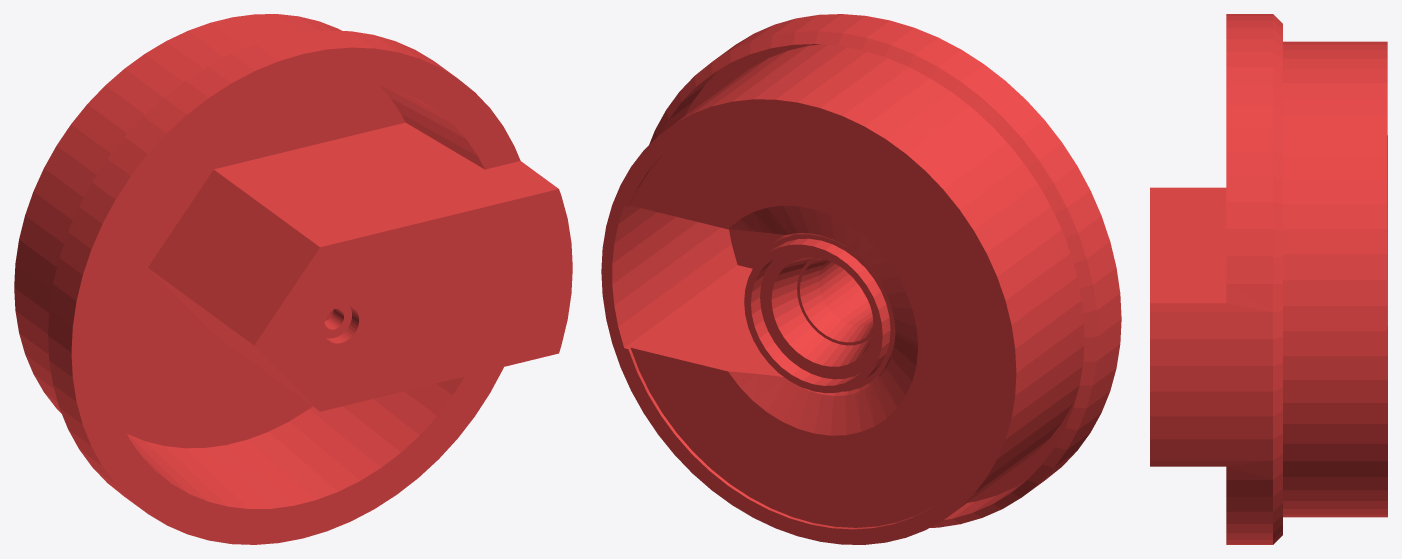
The model's file is rotary_control_switch_0.glb.
3 views of the same model, side by side, from view 1: azimuth 30°, elevation 25°; view 2: azimuth 150°, elevation 25°; view 3: azimuth 270°, elevation 25° (orthographic).
Parts seen in each view (by area): view 1: disconnect_0_knob.001; view 2: disconnect_0_knob.001; view 3: disconnect_0_knob.001.
Boxes of the visible parts, x1=… form: disconnect_0_knob.001: x1=14, y1=14, x2=572, y2=544; disconnect_0_knob.001: x1=601, y1=14, x2=1121, y2=544; disconnect_0_knob.001: x1=1150, y1=14, x2=1387, y2=544.
Size of the model in its own units: 0.0648 by 0.0648 by 0.029.
